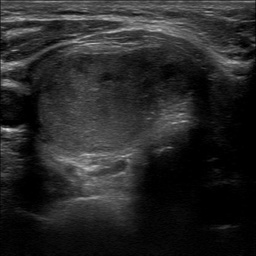mass: (37, 45, 198, 148)
